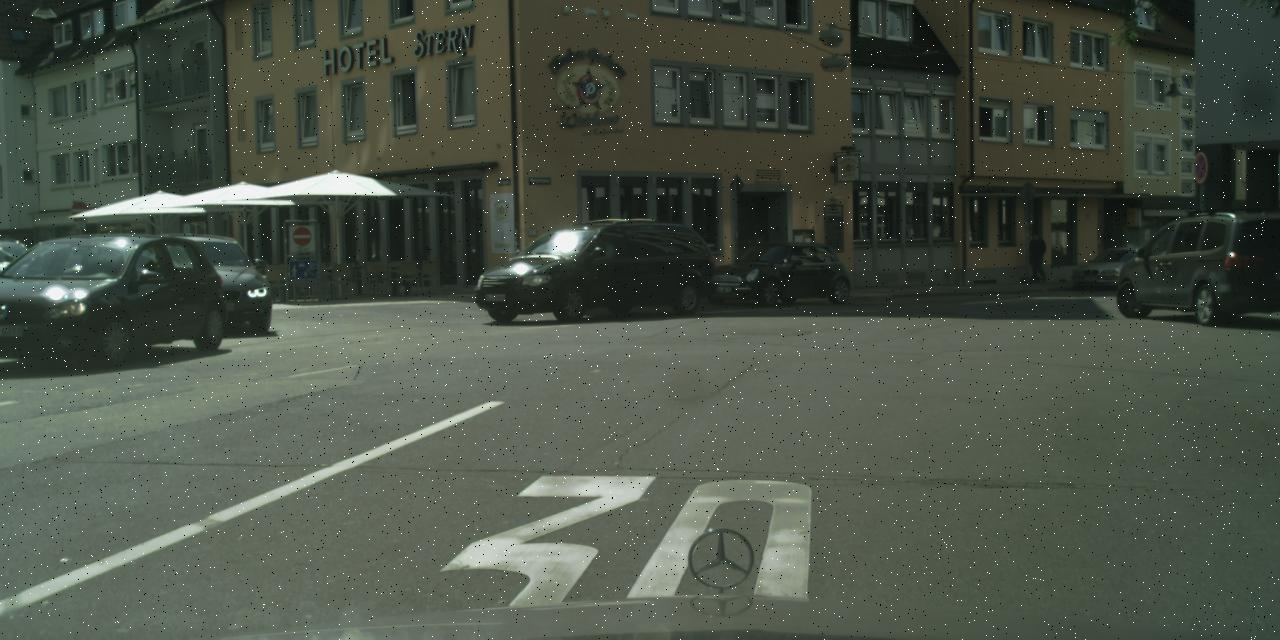ped: (1026, 230, 1046, 282)
